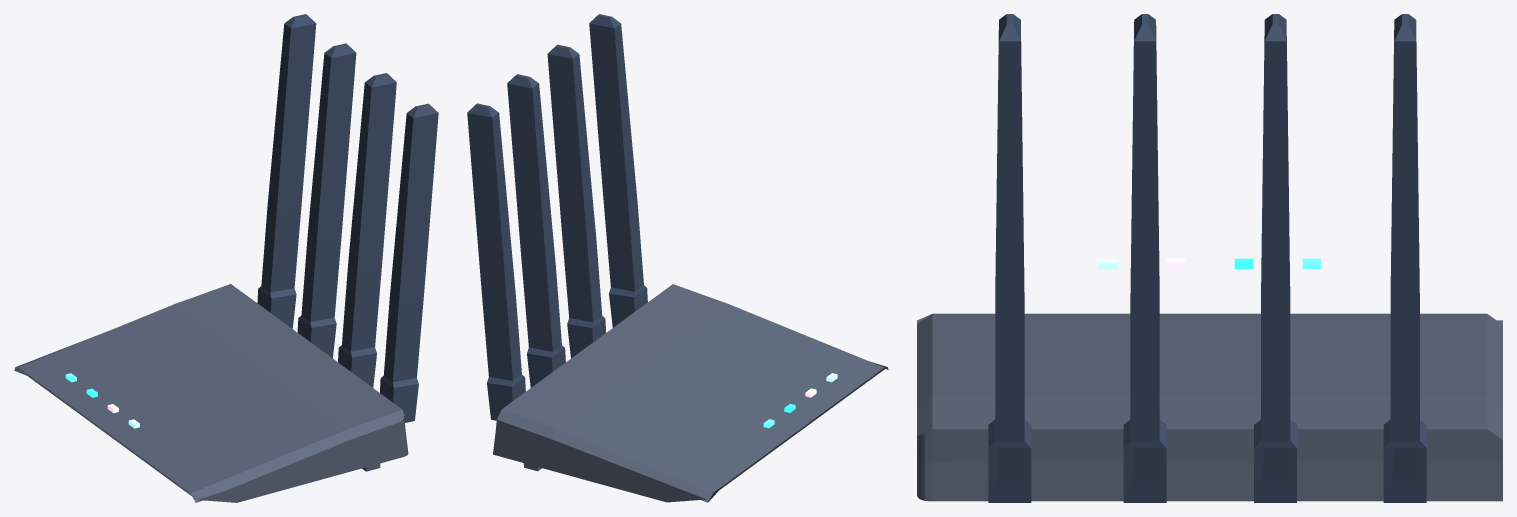
Rendered from router.glb.
The picture shows the model from 3 angles, left to right: view 1: azimuth 30°, elevation 25°; view 2: azimuth 150°, elevation 25°; view 3: azimuth 270°, elevation 25°; orthographic projection. The views are drawn at different scales.
Visible parts, largest first — view 1: Cube, Cube.004, Cube.001, Cube.002, Cube.003; view 2: Cube, Cube.001, Cube.004, Cube.002, Cube.003; view 3: Cube, Cube.003, Cube.004, Cube.001, Cube.002.
Boxes of the visible parts, x1,y1,x2,y2 form: Cube: (14,284,408,502); Cube.004: (380,103,438,422); Cube.001: (257,14,316,328); Cube.002: (297,43,356,358); Cube.003: (338,73,396,387); Cube: (493,284,888,502); Cube.001: (467,103,525,420); Cube.004: (589,14,647,327); Cube.002: (507,74,565,387); Cube.003: (547,44,605,358); Cube: (917,313,1502,501); Cube.003: (1123,14,1166,502); Cube.004: (988,14,1031,502); Cube.001: (1383,14,1426,502); Cube.002: (1254,14,1296,502).
Bounding box in the file's own units: 6 × 6.81 × 6.9.
